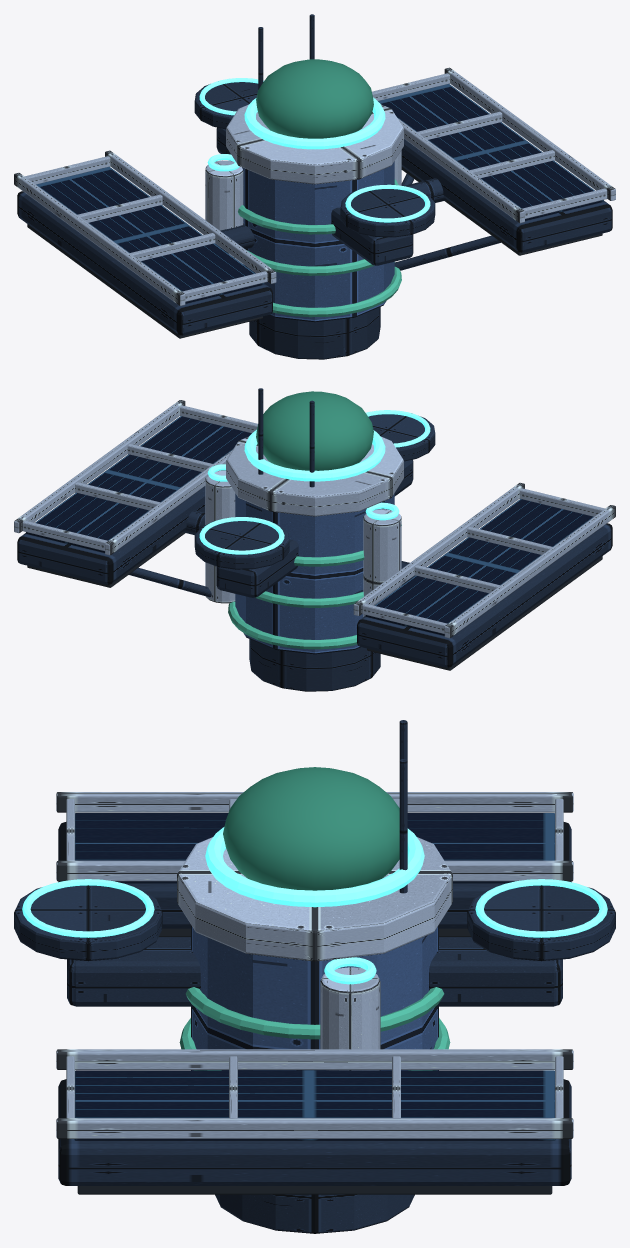
File: cryostat.glb
The picture shows the model from 3 angles, top to bottom: view 1: azimuth 30°, elevation 25°; view 2: azimuth 150°, elevation 25°; view 3: azimuth 270°, elevation 25°; orthographic projection. The views are drawn at different scales.
Visible parts, largest first — view 1: Surface_Brushed_Steel, Surface_Ceramic_Armor, Surface_Radiator_Cells, Surface_Titanium_Panels, Surface_cryostat_Glazed_Optics, Surface_cryostat_Reactor, Surface_cryostat_Faction_Enamel, Surface_Recess_Carbon; view 2: Surface_Ceramic_Armor, Surface_Brushed_Steel, Surface_Radiator_Cells, Surface_Titanium_Panels, Surface_cryostat_Glazed_Optics, Surface_cryostat_Reactor, Surface_cryostat_Faction_Enamel, Surface_Recess_Carbon; view 3: Surface_Brushed_Steel, Surface_Ceramic_Armor, Surface_Radiator_Cells, Surface_cryostat_Glazed_Optics, Surface_Titanium_Panels, Surface_cryostat_Reactor, Surface_Recess_Carbon, Surface_cryostat_Faction_Enamel.
Part boxes in pixels (x1,y1,x2,y2): Surface_Brushed_Steel: [17, 14, 612, 359]; Surface_Ceramic_Armor: [14, 67, 615, 305]; Surface_Radiator_Cells: [36, 84, 603, 303]; Surface_Titanium_Panels: [242, 161, 394, 322]; Surface_cryostat_Glazed_Optics: [256, 59, 373, 138]; Surface_cryostat_Reactor: [199, 78, 430, 222]; Surface_cryostat_Faction_Enamel: [238, 179, 401, 317]; Surface_Recess_Carbon: [27, 166, 602, 338]; Surface_Ceramic_Armor: [14, 400, 615, 638]; Surface_Brushed_Steel: [17, 388, 612, 691]; Surface_Radiator_Cells: [26, 416, 593, 635]; Surface_Titanium_Panels: [235, 493, 394, 654]; Surface_cryostat_Glazed_Optics: [256, 391, 373, 470]; Surface_cryostat_Reactor: [199, 410, 430, 554]; Surface_cryostat_Faction_Enamel: [228, 525, 401, 649]; Surface_Recess_Carbon: [27, 532, 602, 670]; Surface_Brushed_Steel: [14, 720, 615, 1233]; Surface_Ceramic_Armor: [56, 792, 573, 1138]; Surface_Radiator_Cells: [74, 813, 555, 1140]; Surface_cryostat_Glazed_Optics: [223, 767, 399, 890]; Surface_Titanium_Panels: [191, 925, 438, 1070]; Surface_cryostat_Reactor: [22, 827, 607, 984]; Surface_Recess_Carbon: [77, 928, 552, 1194]; Surface_cryostat_Faction_Enamel: [179, 987, 450, 1070].
Size of the model in its own units: 2.21 by 1.41 by 1.7.
8 materials, 4 textured.
